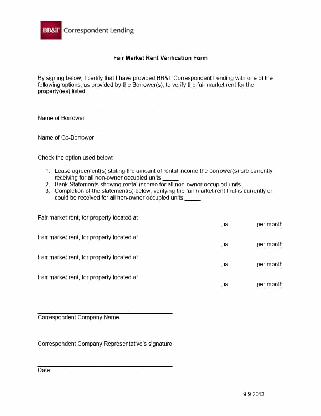textline: (35, 279, 222, 291), (33, 259, 222, 270), (35, 219, 221, 229), (35, 102, 173, 115), (35, 240, 222, 249), (35, 303, 175, 315), (37, 357, 176, 369), (35, 125, 175, 136), (35, 331, 174, 342), (229, 260, 258, 271), (229, 240, 257, 250), (229, 281, 256, 291), (229, 220, 256, 229), (241, 179, 262, 189), (184, 193, 201, 202), (162, 175, 180, 182)
